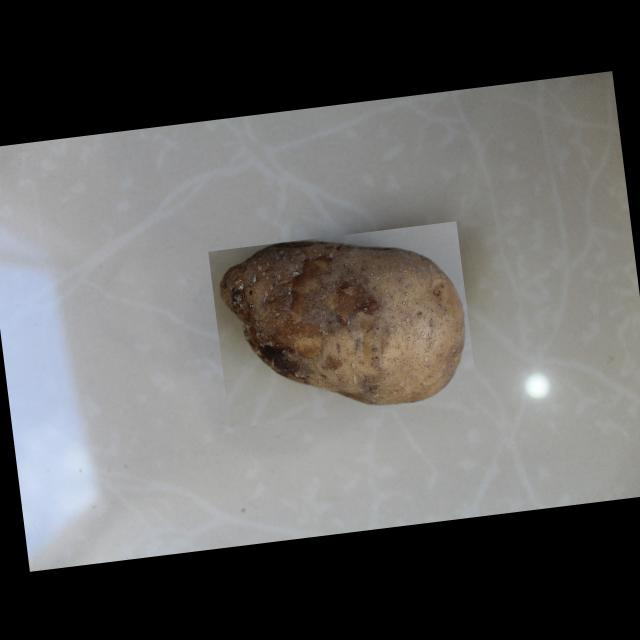Diseased-fungal potato: (206, 220, 476, 427)
